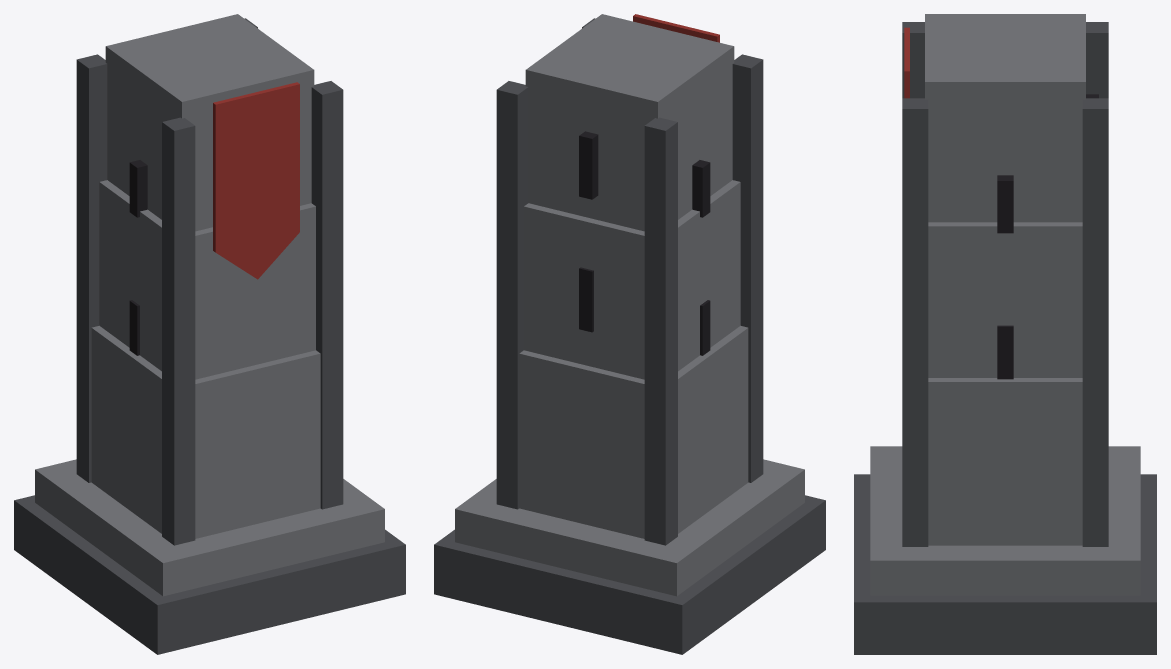
The model's file is watch_tower_l1_lowpoly.glb.
3 views of the same model, side by side, from view 1: azimuth 30°, elevation 25°; view 2: azimuth 150°, elevation 25°; view 3: azimuth 270°, elevation 25° (orthographic). The views are drawn at different scales.
Parts seen in each view (by area): view 1: lp_watch_tower; view 2: lp_watch_tower; view 3: lp_watch_tower.
Boxes of the visible parts, x1,y1,x2,y2 form: lp_watch_tower: [14, 14, 405, 654]; lp_watch_tower: [434, 14, 825, 654]; lp_watch_tower: [854, 14, 1156, 654].
Size of the model in its own units: 0.94 by 1.86 by 0.94.
